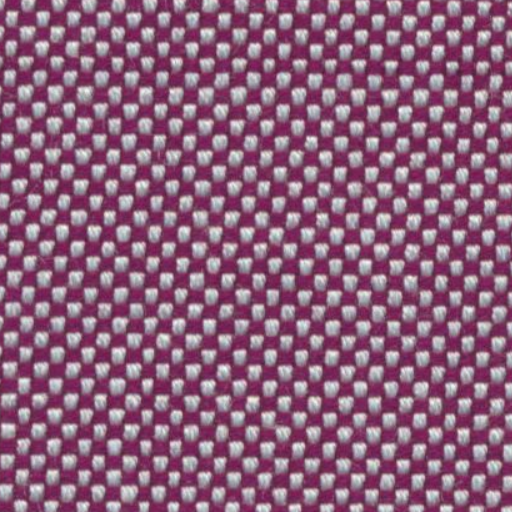TuoSha: (10, 22, 497, 106)
